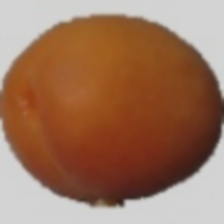apricot: (38, 46, 186, 206)
